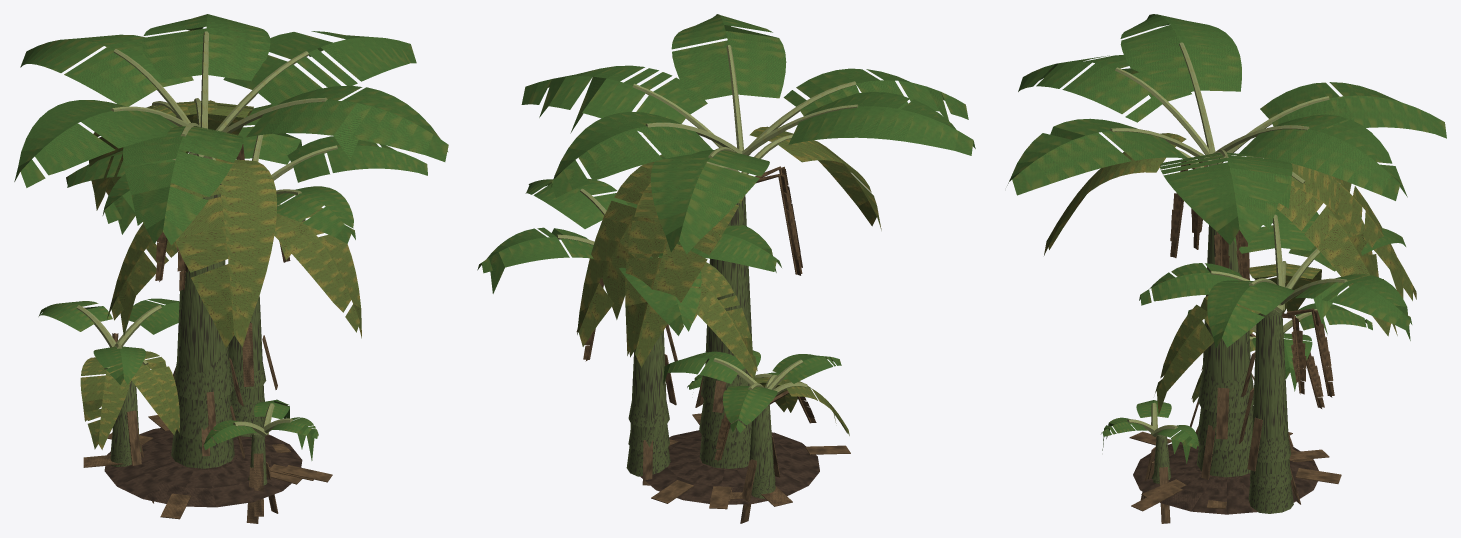
File: BananaClumpNew.fbx
3 renders of one model, left to right at view 1: azimuth 30°, elevation 25°; view 2: azimuth 150°, elevation 25°; view 3: azimuth 270°, elevation 25°, orthographic. The views are drawn at different scales.
Visible parts, largest first — view 1: BananaClump, BananaClump_B, BananaClump_Base; view 2: BananaClump, BananaClump_B, BananaClump_Base; view 3: BananaClump, BananaClump_Base, BananaClump_B.
Part boxes in pixels (x1,y1,x2,y2): BananaClump: (14, 14, 448, 460); BananaClump_B: (80, 98, 361, 449); BananaClump_Base: (83, 152, 332, 523); BananaClump: (477, 14, 975, 432); BananaClump_B: (576, 126, 881, 461); BananaClump_Base: (626, 195, 850, 523); BananaClump: (1007, 14, 1446, 463); BananaClump_Base: (1129, 225, 1341, 523); BananaClump_B: (1044, 133, 1416, 414).
Size of the model in its own units: 376 by 357 by 343.
Materials: 1 (1 with a texture image).
